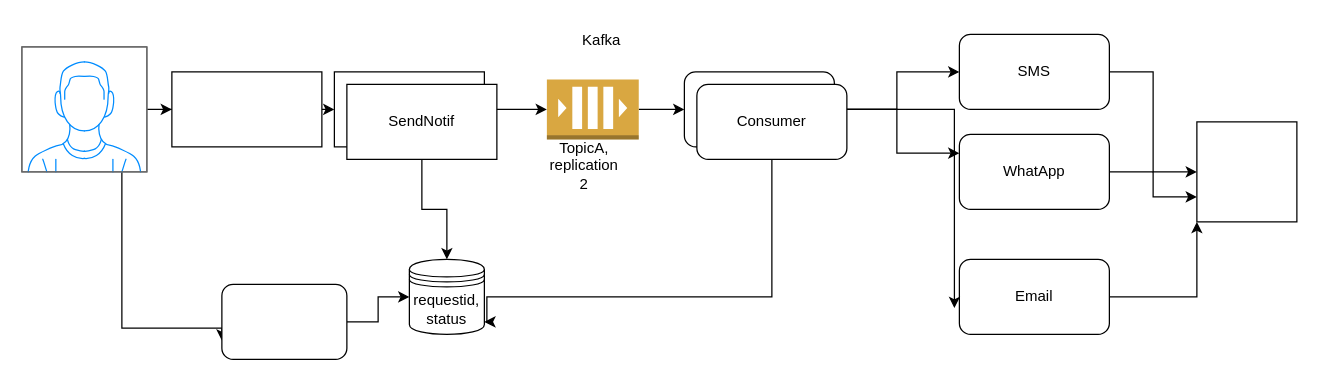
Image size: 1319x381. Some labels were removed from this diagram. The shapes that lost their labels are listed below. From the top down, each one's centre as x and y in pixels, then its label:
At point (246, 109): "LB, Layer4".
At point (1246, 171): "Twilio".
At point (284, 321): "callBackService".
